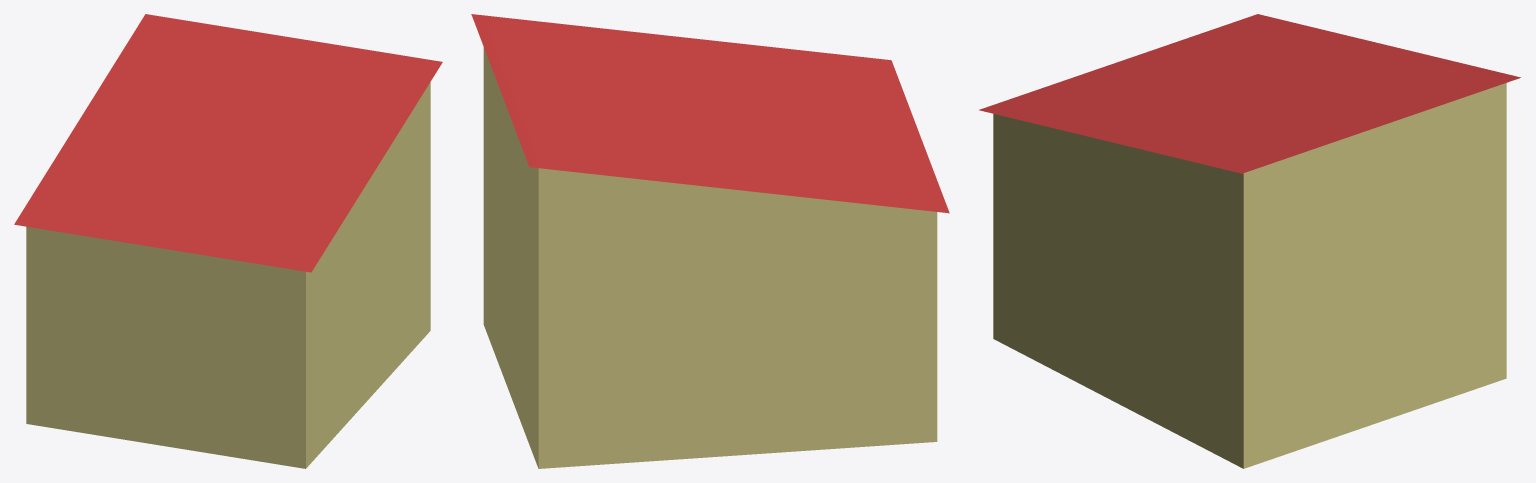
3 renders of one model, left to right at view 1: azimuth 30°, elevation 25°; view 2: azimuth 150°, elevation 25°; view 3: azimuth 270°, elevation 25°, orthographic. The views are drawn at different scales.
Bounding box in the file's own units: 12.81 × 12.62 × 7.73.
